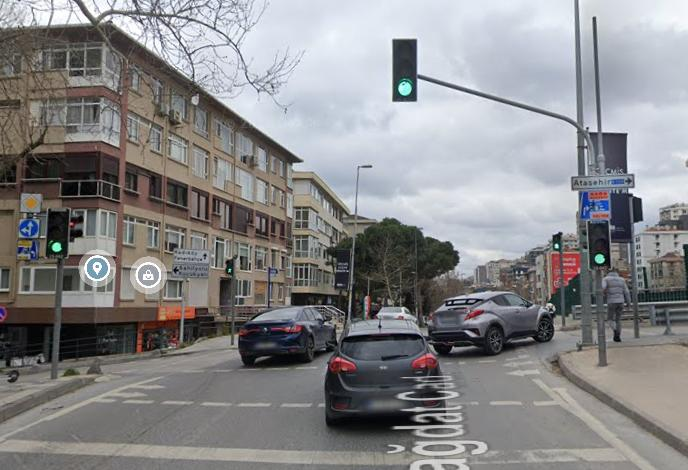greenlight: (390, 40, 417, 101), (588, 220, 610, 267), (46, 208, 67, 257)
